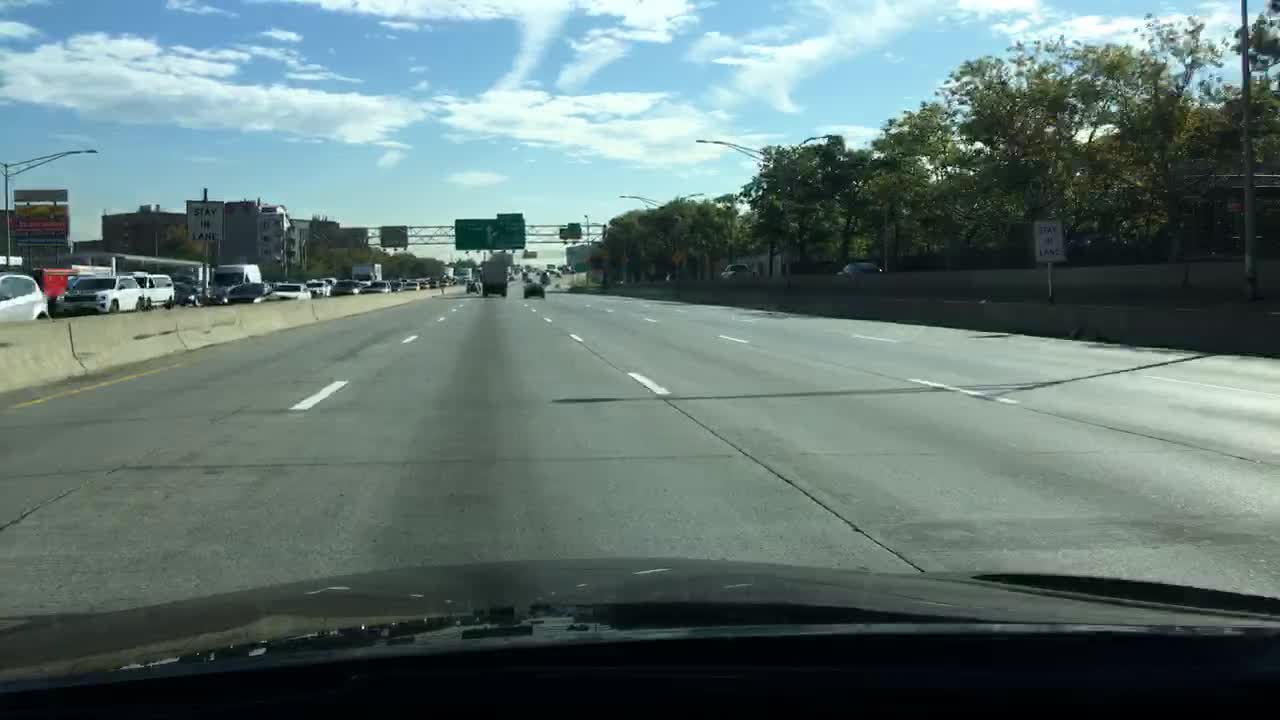car: (56, 275, 145, 314), (0, 272, 53, 323), (208, 256, 266, 298), (130, 271, 175, 308), (223, 280, 272, 302), (721, 262, 759, 281), (835, 262, 885, 275), (274, 283, 311, 299), (330, 278, 363, 295), (521, 281, 548, 299), (187, 280, 208, 302), (172, 280, 190, 305), (316, 275, 332, 295), (304, 280, 324, 295), (363, 281, 387, 293), (666, 271, 681, 284), (431, 275, 447, 287), (402, 281, 419, 292), (615, 275, 632, 286), (419, 275, 435, 286), (389, 278, 401, 290), (405, 271, 419, 281), (507, 269, 516, 281)
traffic sign: (453, 219, 527, 251), (11, 205, 68, 243), (184, 198, 224, 244), (1032, 220, 1066, 262), (22, 245, 71, 266), (11, 189, 70, 205), (257, 214, 281, 250), (378, 223, 405, 247), (558, 228, 584, 240), (495, 210, 525, 217), (564, 223, 581, 231)
truck: (479, 259, 510, 298), (350, 262, 384, 280), (453, 265, 471, 278)
